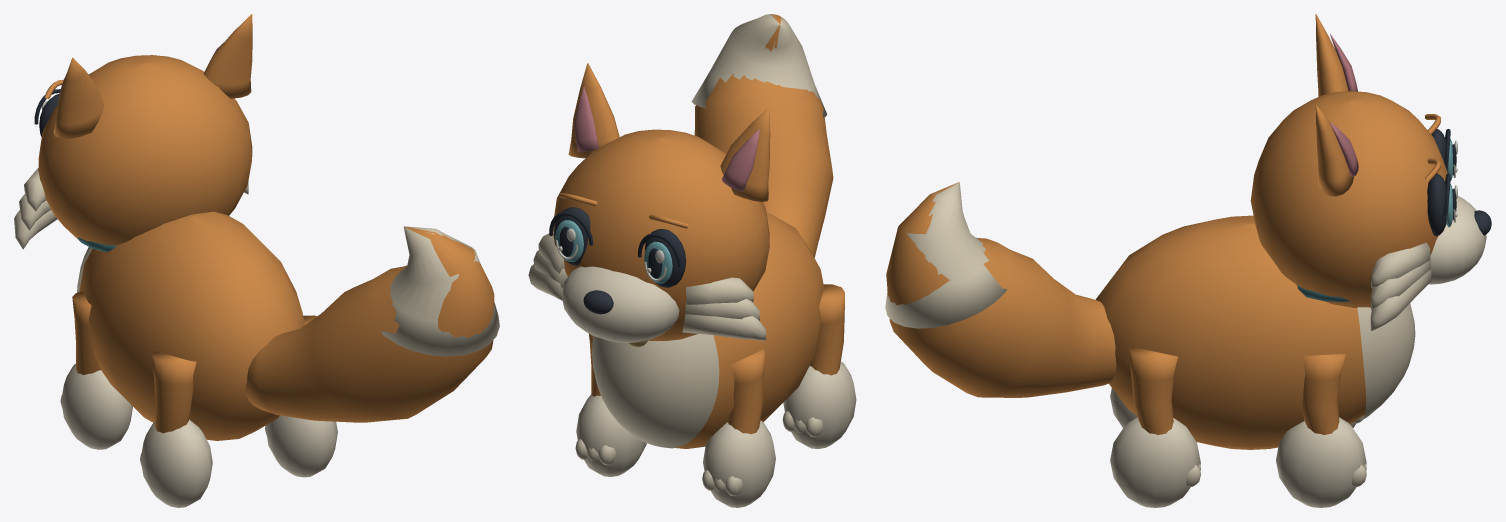
File: pet-fox.glb
3 views of the same model, side by side, from view 1: azimuth 30°, elevation 25°; view 2: azimuth 150°, elevation 25°; view 3: azimuth 270°, elevation 25° (orthographic). The views are drawn at different scales.
Parts seen in each view (by area): view 1: body_Painted pet.001, petHead_Painted pet.001, tail_Painted pet.001, legLB_Painted pet.001, legLF_Painted pet.001, legRB_Painted pet.001, earL_Painted pet.001, earR_Painted pet.001, petEyes_Painted pet.001; view 2: petHead_Painted pet.001, body_Painted pet.001, tail_Painted pet.001, legLF_Painted pet.001, legLB_Painted pet.001, petEyes_Painted pet.001, legRF_Painted pet.001, earL_Painted pet.001, earR_Painted pet.001; view 3: body_Painted pet.001, petHead_Painted pet.001, tail_Painted pet.001, legRB_Painted pet.001, legRF_Painted pet.001, earR_Painted pet.001, petEyes_Painted pet.001, earL_Painted pet.001.
Boxes of the visible parts, x1=… form: body_Painted pet.001: x1=77, y1=211, x2=304, y2=440; petHead_Painted pet.001: x1=14, y1=55, x2=252, y2=250; tail_Painted pet.001: x1=245, y1=226, x2=499, y2=422; legLB_Painted pet.001: x1=140, y1=351, x2=212, y2=507; legLF_Painted pet.001: x1=60, y1=291, x2=132, y2=449; legRB_Painted pet.001: x1=265, y1=315, x2=337, y2=477; earL_Painted pet.001: x1=53, y1=57, x2=104, y2=138; earR_Painted pet.001: x1=203, y1=14, x2=252, y2=98; petEyes_Painted pet.001: x1=34, y1=89, x2=60, y2=136; petHead_Painted pet.001: x1=528, y1=129, x2=769, y2=342; body_Painted pet.001: x1=592, y1=212, x2=823, y2=448; tail_Painted pet.001: x1=691, y1=14, x2=833, y2=257; legLF_Painted pet.001: x1=702, y1=349, x2=775, y2=507; legLB_Painted pet.001: x1=782, y1=284, x2=856, y2=448; petEyes_Painted pet.001: x1=549, y1=207, x2=686, y2=287; legRF_Painted pet.001: x1=575, y1=333, x2=646, y2=476; earL_Painted pet.001: x1=720, y1=107, x2=770, y2=201; earR_Painted pet.001: x1=568, y1=63, x2=619, y2=158; body_Painted pet.001: x1=1096, y1=215, x2=1415, y2=449; petHead_Painted pet.001: x1=1250, y1=91, x2=1491, y2=330; tail_Painted pet.001: x1=885, y1=182, x2=1116, y2=397; legRB_Painted pet.001: x1=1110, y1=346, x2=1200, y2=507; legRF_Painted pet.001: x1=1276, y1=353, x2=1366, y2=507; earR_Painted pet.001: x1=1315, y1=105, x2=1358, y2=196; petEyes_Painted pet.001: x1=1427, y1=129, x2=1457, y2=236; earL_Painted pet.001: x1=1315, y1=14, x2=1357, y2=96.
Size of the model in its own units: 0.6494 by 0.9103 by 1.21.
